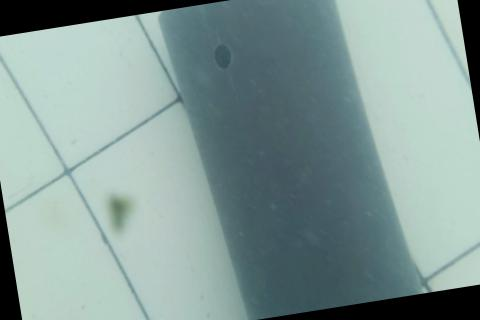kebocoran: (212, 42, 236, 74)
